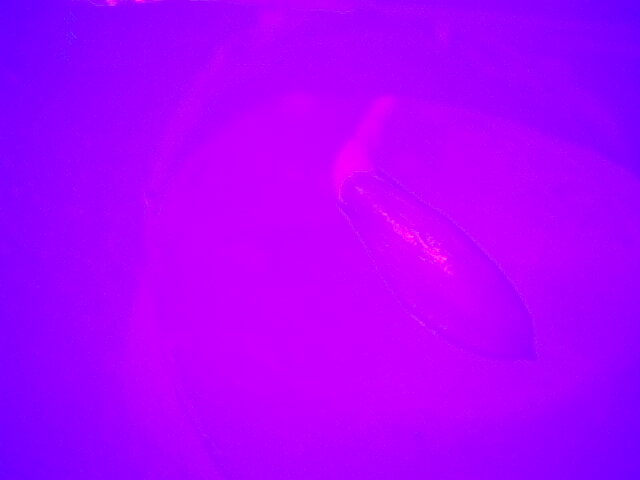sprout: (293, 95, 553, 364)
